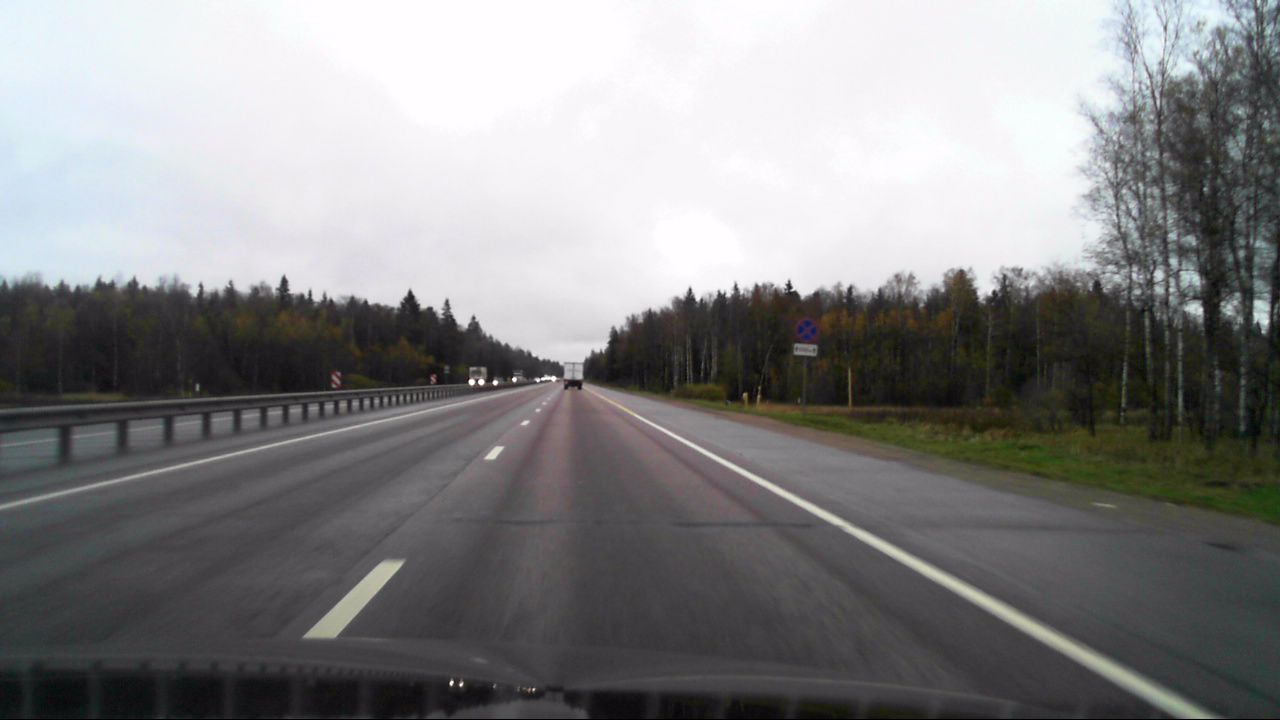No Parking: (794, 318, 817, 341)
